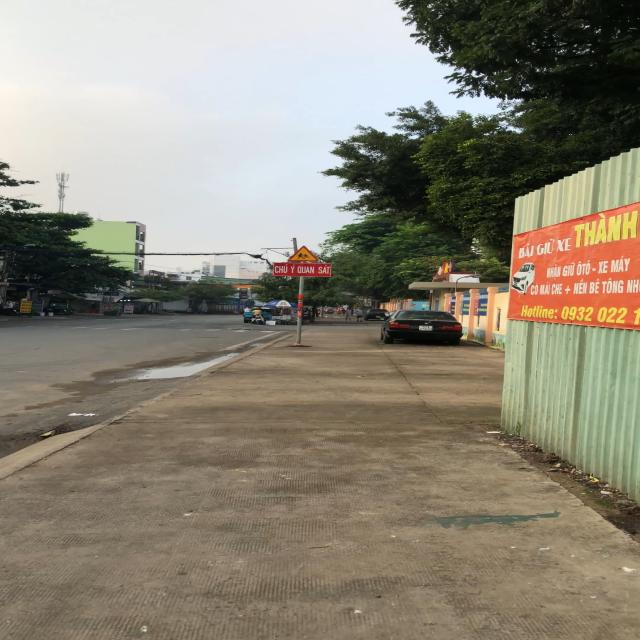Bien bao tre em: (285, 244, 322, 262)
